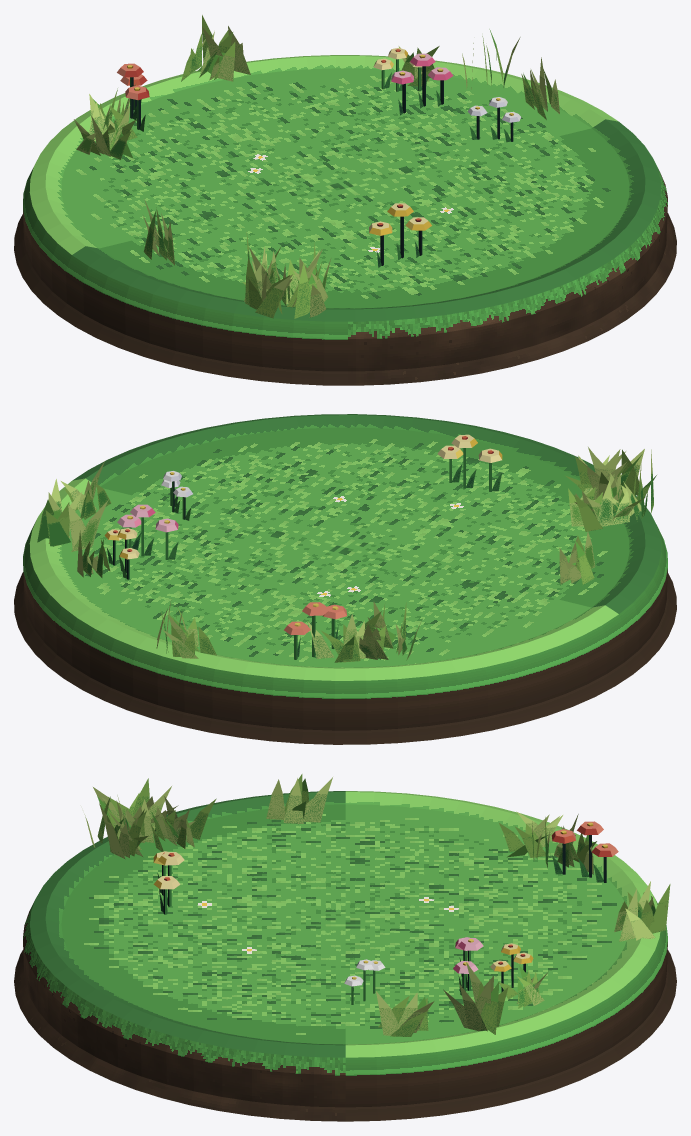
The model's file is platform_grass.glb.
The picture shows the model from 3 angles, top to bottom: view 1: azimuth 30°, elevation 25°; view 2: azimuth 150°, elevation 25°; view 3: azimuth 270°, elevation 25°; orthographic projection.
Visible parts, largest first — view 1: platform_grass, plat_grass; view 2: platform_grass, plat_grass; view 3: platform_grass, plat_grass.
Boxes of the visible parts, left/top/right/bottom form: platform_grass: left=14, top=55, right=676, bottom=385; plat_grass: left=74, top=15, right=559, bottom=318; platform_grass: left=14, top=414, right=676, bottom=744; plat_grass: left=37, top=434, right=656, bottom=662; platform_grass: left=14, top=791, right=676, bottom=1121; plat_grass: left=84, top=774, right=670, bottom=1036.
Bounding box in the file's own units: 2.1 × 0.3932 × 2.1.
3 materials, 2 textured.
